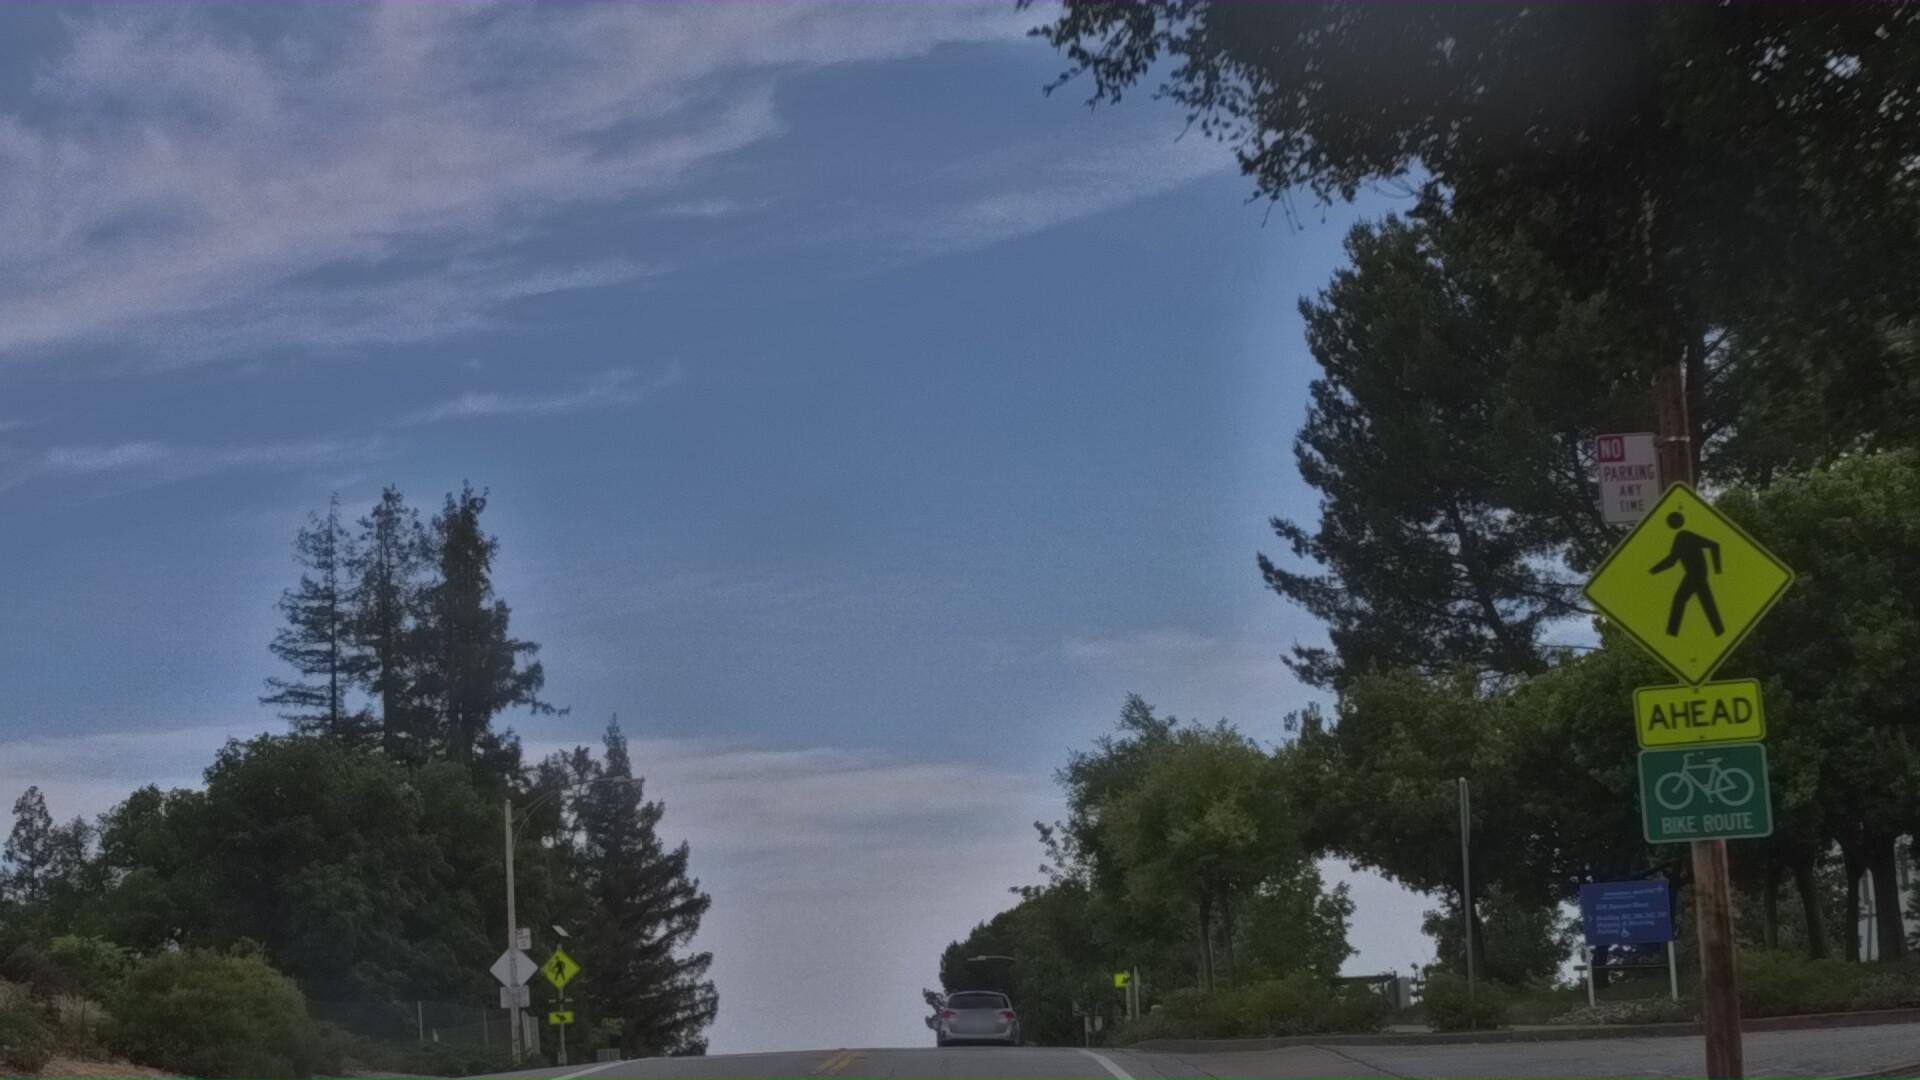car: (927, 982, 1027, 1080)
